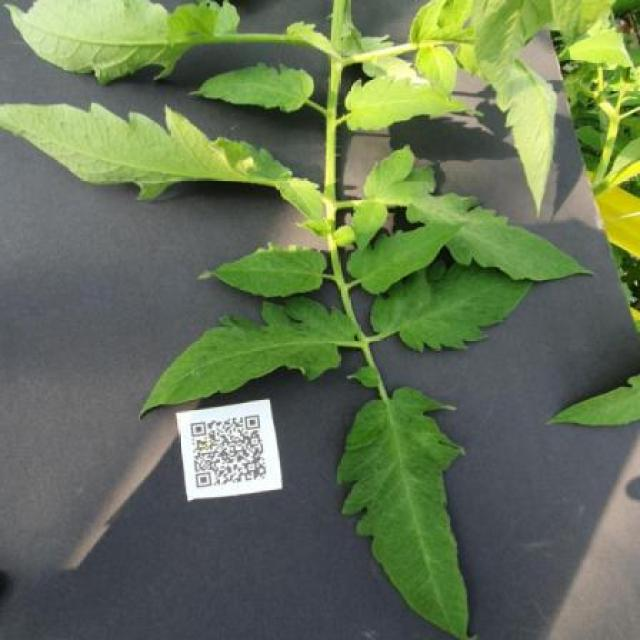Healthy: (333, 385, 479, 640), (350, 141, 596, 282), (139, 295, 360, 421), (368, 259, 536, 355), (346, 222, 468, 294), (344, 75, 484, 134), (195, 242, 329, 298), (186, 62, 316, 115)
